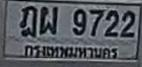2: (105, 10, 119, 37), (121, 10, 135, 37)
7: (90, 9, 104, 36)
9: (72, 8, 86, 35)
A14: (19, 6, 37, 38)
A28: (39, 7, 57, 35)
BKK: (21, 42, 120, 62)
